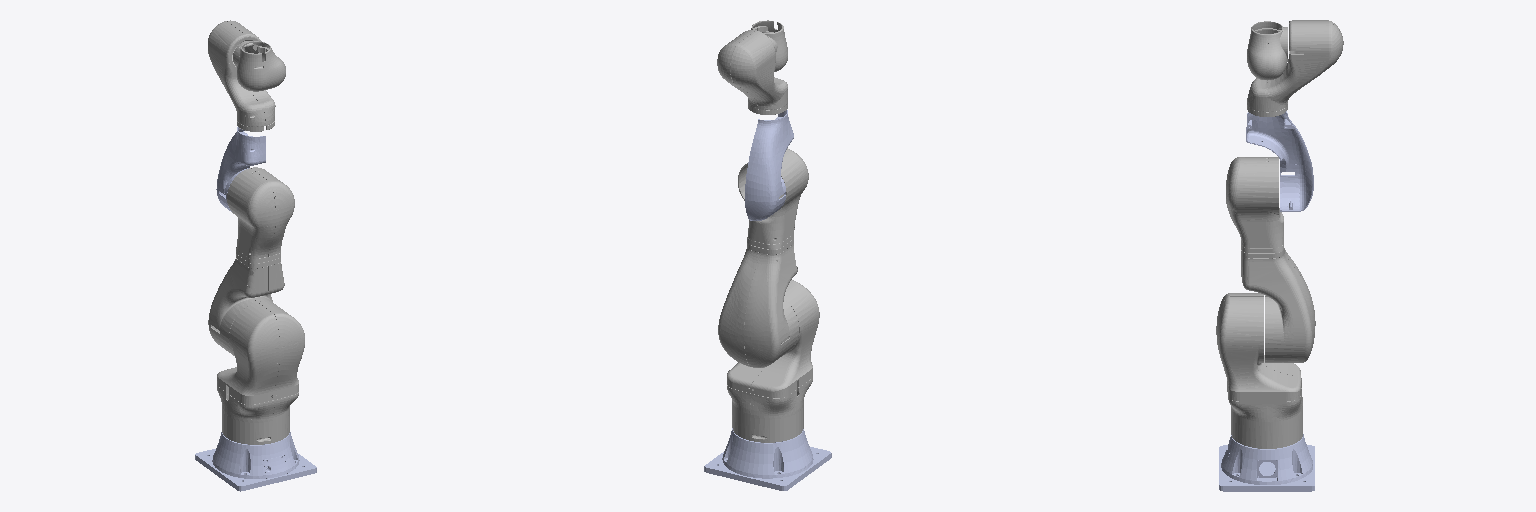
The robot description file, URDF, robot "scorpio_arm_description_v3":
<robot
  name="scorpio_arm_description_v3">
  <link
    name="base_link">
    <inertial>
      <origin
        xyz="-0.0023174739871849 0.000926090335802019 0.0320057013975666"
        rpy="0 0 0" />
      <mass
        value="2.11601477785116" />
      <inertia
        ixx="0.00202448875112996"
        ixy="4.37456323015974E-05"
        ixz="0.000128545243673656"
        iyy="0.00131223237035268"
        iyz="-0.000182115234066843"
        izz="0.000782866740229757" />
    </inertial>
    <visual>
      <origin
        xyz="0 0 0"
        rpy="0 0 0" />
      <geometry>
        <mesh
          filename="package://scorpio_arm_description_v3/meshes/base_link.STL" />
      </geometry>
      <material
        name="">
        <color
          rgba="0.792156862745098 0.819607843137255 0.933333333333333 1" />
      </material>
    </visual>
    <collision>
      <origin
        xyz="0 0 0"
        rpy="0 0 0" />
      <geometry>
        <mesh
          filename="package://scorpio_arm_description_v3/meshes/base_link.STL" />
      </geometry>
    </collision>
  </link>
  <link
    name="link1">
    <inertial>
      <origin
        xyz="0.000477211763040632 -0.00737171225105655 0.0673262959495374"
        rpy="0 0 0" />
      <mass
        value="0.462790481374202" />
      <inertia
        ixx="0.000939965910200995"
        ixy="1.64506977488456E-06"
        ixz="2.63906539352487E-05"
        iyy="0.00212746857726697"
        iyz="0.000232679816143088"
        izz="0.00200259662994076" />
    </inertial>
    <visual>
      <origin
        xyz="0 0 0"
        rpy="0 0 0" />
      <geometry>
        <mesh
          filename="package://scorpio_arm_description_v3/meshes/link1.STL" />
      </geometry>
      <material
        name="">
        <color
          rgba="0.752941176470588 0.752941176470588 0.752941176470588 1" />
      </material>
    </visual>
    <collision>
      <origin
        xyz="0 0 0"
        rpy="0 0 0" />
      <geometry>
        <mesh
          filename="package://scorpio_arm_description_v3/meshes/link1.STL" />
      </geometry>
    </collision>
  </link>
  <joint
    name="joint1"
    type="revolute">
    <origin
      xyz="0 0 0.1115"
      rpy="1.65436122510606E-24 -2.16239755607771E-34 1.77925042286121E-10" />
    <parent
      link="base_link" />
    <child
      link="link1" />
    <axis
      xyz="0 0 1" />
  </joint>
  <link
    name="link2">
    <inertial>
      <origin
        xyz="0.000424568456060081 0.353718613538131 -0.0239145484479153"
        rpy="0 0 0" />
      <mass
        value="0.449203640099021" />
      <inertia
        ixx="0.00153786121682179"
        ixy="-8.28836534643507E-05"
        ixz="-8.85331181664693E-06"
        iyy="0.000798472791972848"
        iyz="0.000260149183654035"
        izz="0.00223846447973204" />
    </inertial>
    <visual>
      <origin
        xyz="0 0 0"
        rpy="0 0 0" />
      <geometry>
        <mesh
          filename="package://scorpio_arm_description_v3/meshes/link2.STL" />
      </geometry>
      <material
        name="">
        <color
          rgba="0.752941176470588 0.752941176470588 0.752941176470588 1" />
      </material>
    </visual>
    <collision>
      <origin
        xyz="0 0 0"
        rpy="0 0 0" />
      <geometry>
        <mesh
          filename="package://scorpio_arm_description_v3/meshes/link2.STL" />
      </geometry>
    </collision>
  </link>
  <joint
    name="joint2"
    type="revolute">
    <origin
      xyz="0 -0.00775000309120119 0.314499999923826"
      rpy="1.57079631696602 1.748803E-18 3.14159265358979" />
    <parent
      link="link1" />
    <child
      link="link2" />
    <axis
      xyz="0 0 -1" />
  </joint>
  <link
    name="link3">
    <inertial>
      <origin
        xyz="0.000152270903135417 0.0924043712970327 0.00966148754882001"
        rpy="0 0 0" />
      <mass
        value="0.417553118840387" />
      <inertia
        ixx="0.000778760838885271"
        ixy="-3.1319846533591E-05"
        ixz="9.73666822020879E-06"
        iyy="0.00074740822193102"
        iyz="0.000238313418273415"
        izz="0.00134923661677296" />
    </inertial>
    <visual>
      <origin
        xyz="0 0 0"
        rpy="0 0 0" />
      <geometry>
        <mesh
          filename="package://scorpio_arm_description_v3/meshes/link3.STL" />
      </geometry>
      <material
        name="">
        <color
          rgba="0.792156862745098 0.819607843137255 0.933333333333333 1" />
      </material>
    </visual>
    <collision>
      <origin
        xyz="0 0 0"
        rpy="0 0 0" />
      <geometry>
        <mesh
          filename="package://scorpio_arm_description_v3/meshes/link3.STL" />
      </geometry>
    </collision>
  </link>
  <joint
    name="joint3"
    type="revolute">
    <origin
      xyz="0 0.425000094137017 0.0409999999973247"
      rpy="0 0 0" />
    <parent
      link="link2" />
    <child
      link="link3" />
    <axis
      xyz="0 0 -1" />
  </joint>
  <link
    name="link4">
    <inertial>
      <origin
        xyz="-0.000109431918942657 0.077158563508547 0.125643446015501"
        rpy="0 0 0" />
      <mass
        value="0.389829536577821" />
      <inertia
        ixx="0.000675923696287507"
        ixy="1.42692185757278E-05"
        ixz="1.80236338044173E-05"
        iyy="0.000935956861167346"
        iyz="-0.000316733780223225"
        izz="0.000711962809217492" />
    </inertial>
    <visual>
      <origin
        xyz="0 0 0"
        rpy="0 0 0" />
      <geometry>
        <mesh
          filename="package://scorpio_arm_description_v3/meshes/link4.STL" />
      </geometry>
      <material
        name="">
        <color
          rgba="0.745098039215686 0.745098039215686 0.745098039215686 1" />
      </material>
    </visual>
    <collision>
      <origin
        xyz="0 0 0"
        rpy="0 0 0" />
      <geometry>
        <mesh
          filename="package://scorpio_arm_description_v3/meshes/link4.STL" />
      </geometry>
    </collision>
  </link>
  <joint
    name="jointt4"
    type="revolute">
    <origin
      xyz="-1.49404937263287E-05 0.227498306290618 -0.0332478801440056"
      rpy="1.5707963267949 0 3.14159265358979" />
    <parent
      link="link3" />
    <child
      link="link4" />
    <axis
      xyz="0 0 1" />
  </joint>
  <link
    name="link5">
    <inertial>
      <origin
        xyz="-0.0164538792900365 -0.0131997782617819 0.0535428562871828"
        rpy="0 0 0" />
      <mass
        value="0.0811646525056535" />
      <inertia
        ixx="3.82416724069144E-05"
        ixy="-3.5180959108023E-05"
        ixz="2.21993678801651E-07"
        iyy="7.49045940980443E-05"
        iyz="3.14976478834891E-06"
        izz="9.12568490681769E-05" />
    </inertial>
    <visual>
      <origin
        xyz="0 0 0"
        rpy="0 0 0" />
      <geometry>
        <mesh
          filename="package://scorpio_arm_description_v3/meshes/link5.STL" />
      </geometry>
      <material
        name="">
        <color
          rgba="0.752941176470588 0.752941176470588 0.752941176470588 1" />
      </material>
    </visual>
    <collision>
      <origin
        xyz="0 0 0"
        rpy="0 0 0" />
      <geometry>
        <mesh
          filename="package://scorpio_arm_description_v3/meshes/link5.STL" />
      </geometry>
    </collision>
  </link>
  <joint
    name="joint5"
    type="revolute">
    <origin
      xyz="1.61883599970582E-05 0.0570007543469901 0.197500000000056"
      rpy="1.5707963267949 0 0" />
    <parent
      link="link4" />
    <child
      link="link5" />
    <axis
      xyz="0 0 1" />
  </joint>
  <link
    name="link6">
    <inertial>
      <origin
        xyz="0.0140802343930933 0.00071520282148415 -0.02424013994588"
        rpy="0 0 0" />
      <mass
        value="0.27456433038843" />
      <inertia
        ixx="0.000570513704789326"
        ixy="3.53601263287756E-05"
        ixz="-0.0001835018536269"
        iyy="0.000602989236811894"
        iyz="0.000127335543333261"
        izz="0.000179445348610673" />
    </inertial>
    <visual>
      <origin
        xyz="0 0 0"
        rpy="0 0 0" />
      <geometry>
        <mesh
          filename="package://scorpio_arm_description_v3/meshes/link6.STL" />
      </geometry>
      <material
        name="">
        <color
          rgba="0.752941176470588 0.752941176470588 0.752941176470588 1" />
      </material>
    </visual>
    <collision>
      <origin
        xyz="0 0 0"
        rpy="0 0 0" />
      <geometry>
        <mesh
          filename="package://scorpio_arm_description_v3/meshes/link6.STL" />
      </geometry>
    </collision>
  </link>
  <joint
    name="joint6"
    type="revolute">
    <origin
      xyz="-3.11288537899817E-05 0.0754015995721986 0.0570028742029768"
      rpy="-1.5707963267949 -1.04851706378525E-28 -2.11069071793014E-14" />
    <parent
      link="link5" />
    <child
      link="link6" />
    <axis
      xyz="0 0 1" />
  </joint>
</robot>

--- Facts derived from the render (not from the file) ---
3 views of the same robot in one strip: view 1: azimuth 30°, elevation 25°; view 2: azimuth 150°, elevation 25°; view 3: azimuth 270°, elevation 25° (orthographic).
Robot: scorpio_arm_description_v3 — 7 links, 6 joints (6 revolute); root link base_link; default pose: all joints at 0.
Visible links, largest first — view 1: link1, link2, base_link, link4, link5, link3; view 2: link2, link1, base_link, link4, link3, link5; view 3: link2, link1, link4, base_link, link3, link5.
Boxes of the visible links, box(x1,y1,x2,y2) form: link1: box(217, 301, 304, 444); link2: box(208, 167, 294, 355); base_link: box(195, 432, 316, 491); link4: box(208, 20, 275, 131); link5: box(233, 41, 285, 91); link3: box(216, 127, 265, 211); link2: box(718, 148, 808, 367); link1: box(727, 280, 819, 442); base_link: box(704, 428, 831, 490); link4: box(717, 30, 787, 114); link3: box(745, 110, 793, 220); link5: box(751, 20, 787, 71); link2: box(1226, 157, 1315, 362); link1: box(1216, 293, 1302, 448); link4: box(1247, 20, 1343, 116); base_link: box(1219, 434, 1314, 491); link3: box(1246, 111, 1313, 211); link5: box(1247, 21, 1287, 80).
Bounding box of the posed robot: 0.26 × 0.3438 × 1.34 m (x, y, z).
6 mesh visuals loaded from 7 distinct referenced files (6 binary STL); not drawn: 1 (reference not matched to a file when rendering).